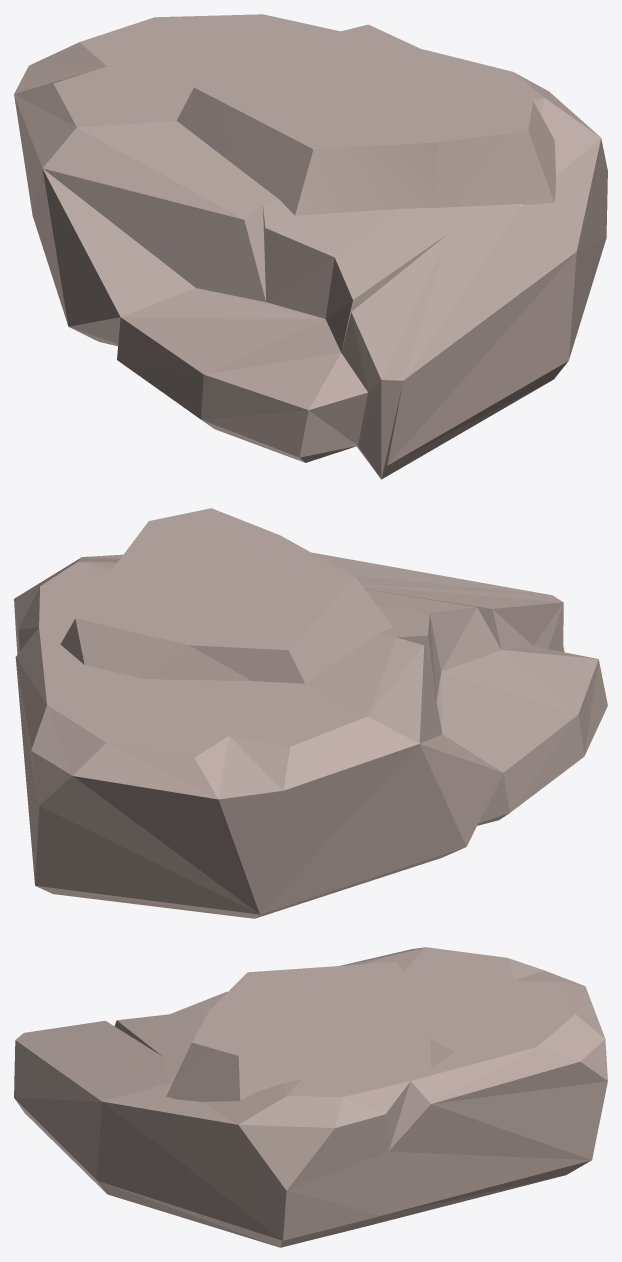
The model's file is rock_020.fbx.
3 views of the same model, one above another, from view 1: azimuth 30°, elevation 25°; view 2: azimuth 150°, elevation 25°; view 3: azimuth 270°, elevation 25° (orthographic). The views are drawn at different scales.
Parts seen in each view (by area): view 1: rock.020; view 2: rock.020; view 3: rock.020.
Part boxes in pixels (<box>): rock.020: <box>14,14,607,479</box>; rock.020: <box>14,508,607,918</box>; rock.020: <box>14,947,607,1247</box>.
Bounding box in the file's own units: 342 × 138 × 442.
Materials: 1 (1 with a texture image).
